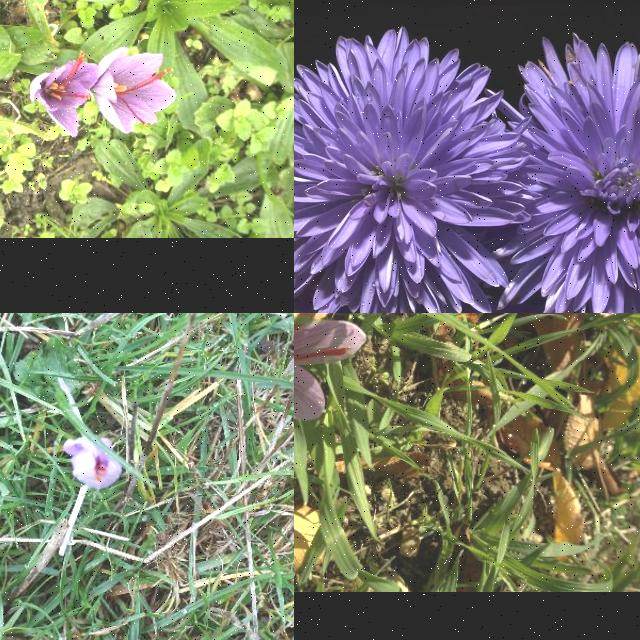flower: (294, 313, 366, 467), (91, 48, 177, 134), (31, 52, 99, 138), (64, 437, 122, 491)
